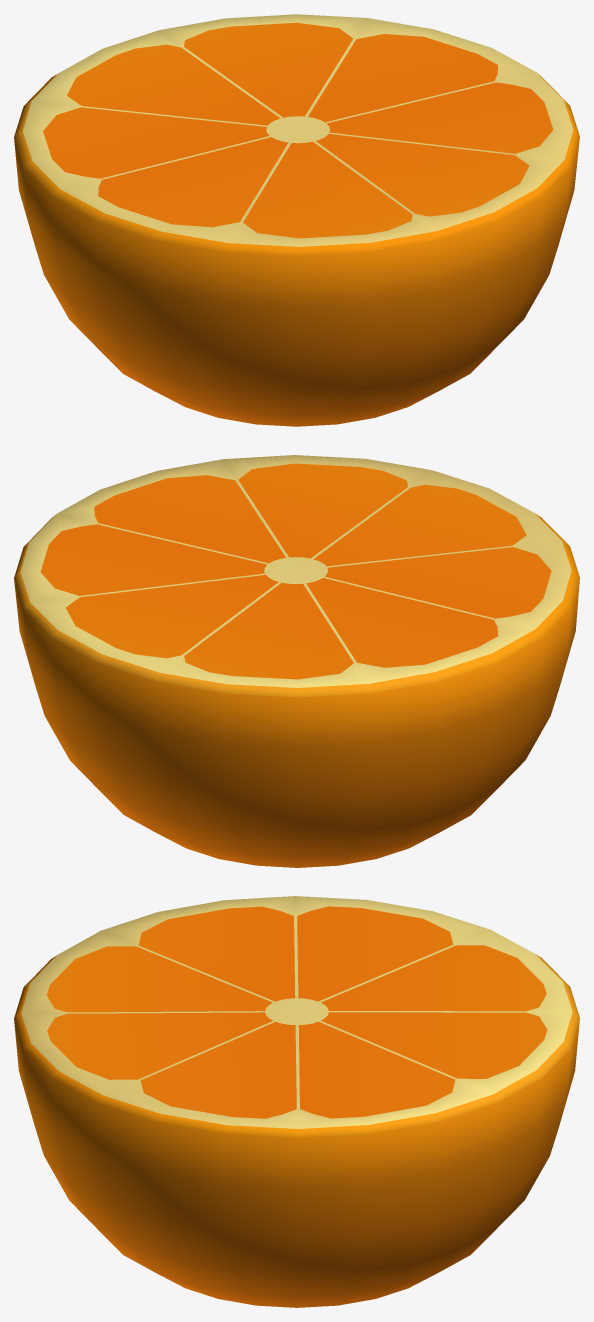
File: Half_an_orange.fbx
3 renders of one model, top to bottom at view 1: azimuth 30°, elevation 25°; view 2: azimuth 150°, elevation 25°; view 3: azimuth 270°, elevation 25°, orthographic.
Parts seen in each view (by area): view 1: Half_an_orange; view 2: Half_an_orange; view 3: Half_an_orange.
Part boxes in pixels (left/top/right/bottom): Half_an_orange: left=14, top=14, right=579, bottom=426; Half_an_orange: left=14, top=455, right=579, bottom=867; Half_an_orange: left=14, top=896, right=579, bottom=1307.
Bounding box in the file's own units: 169 × 84.3 × 169.
